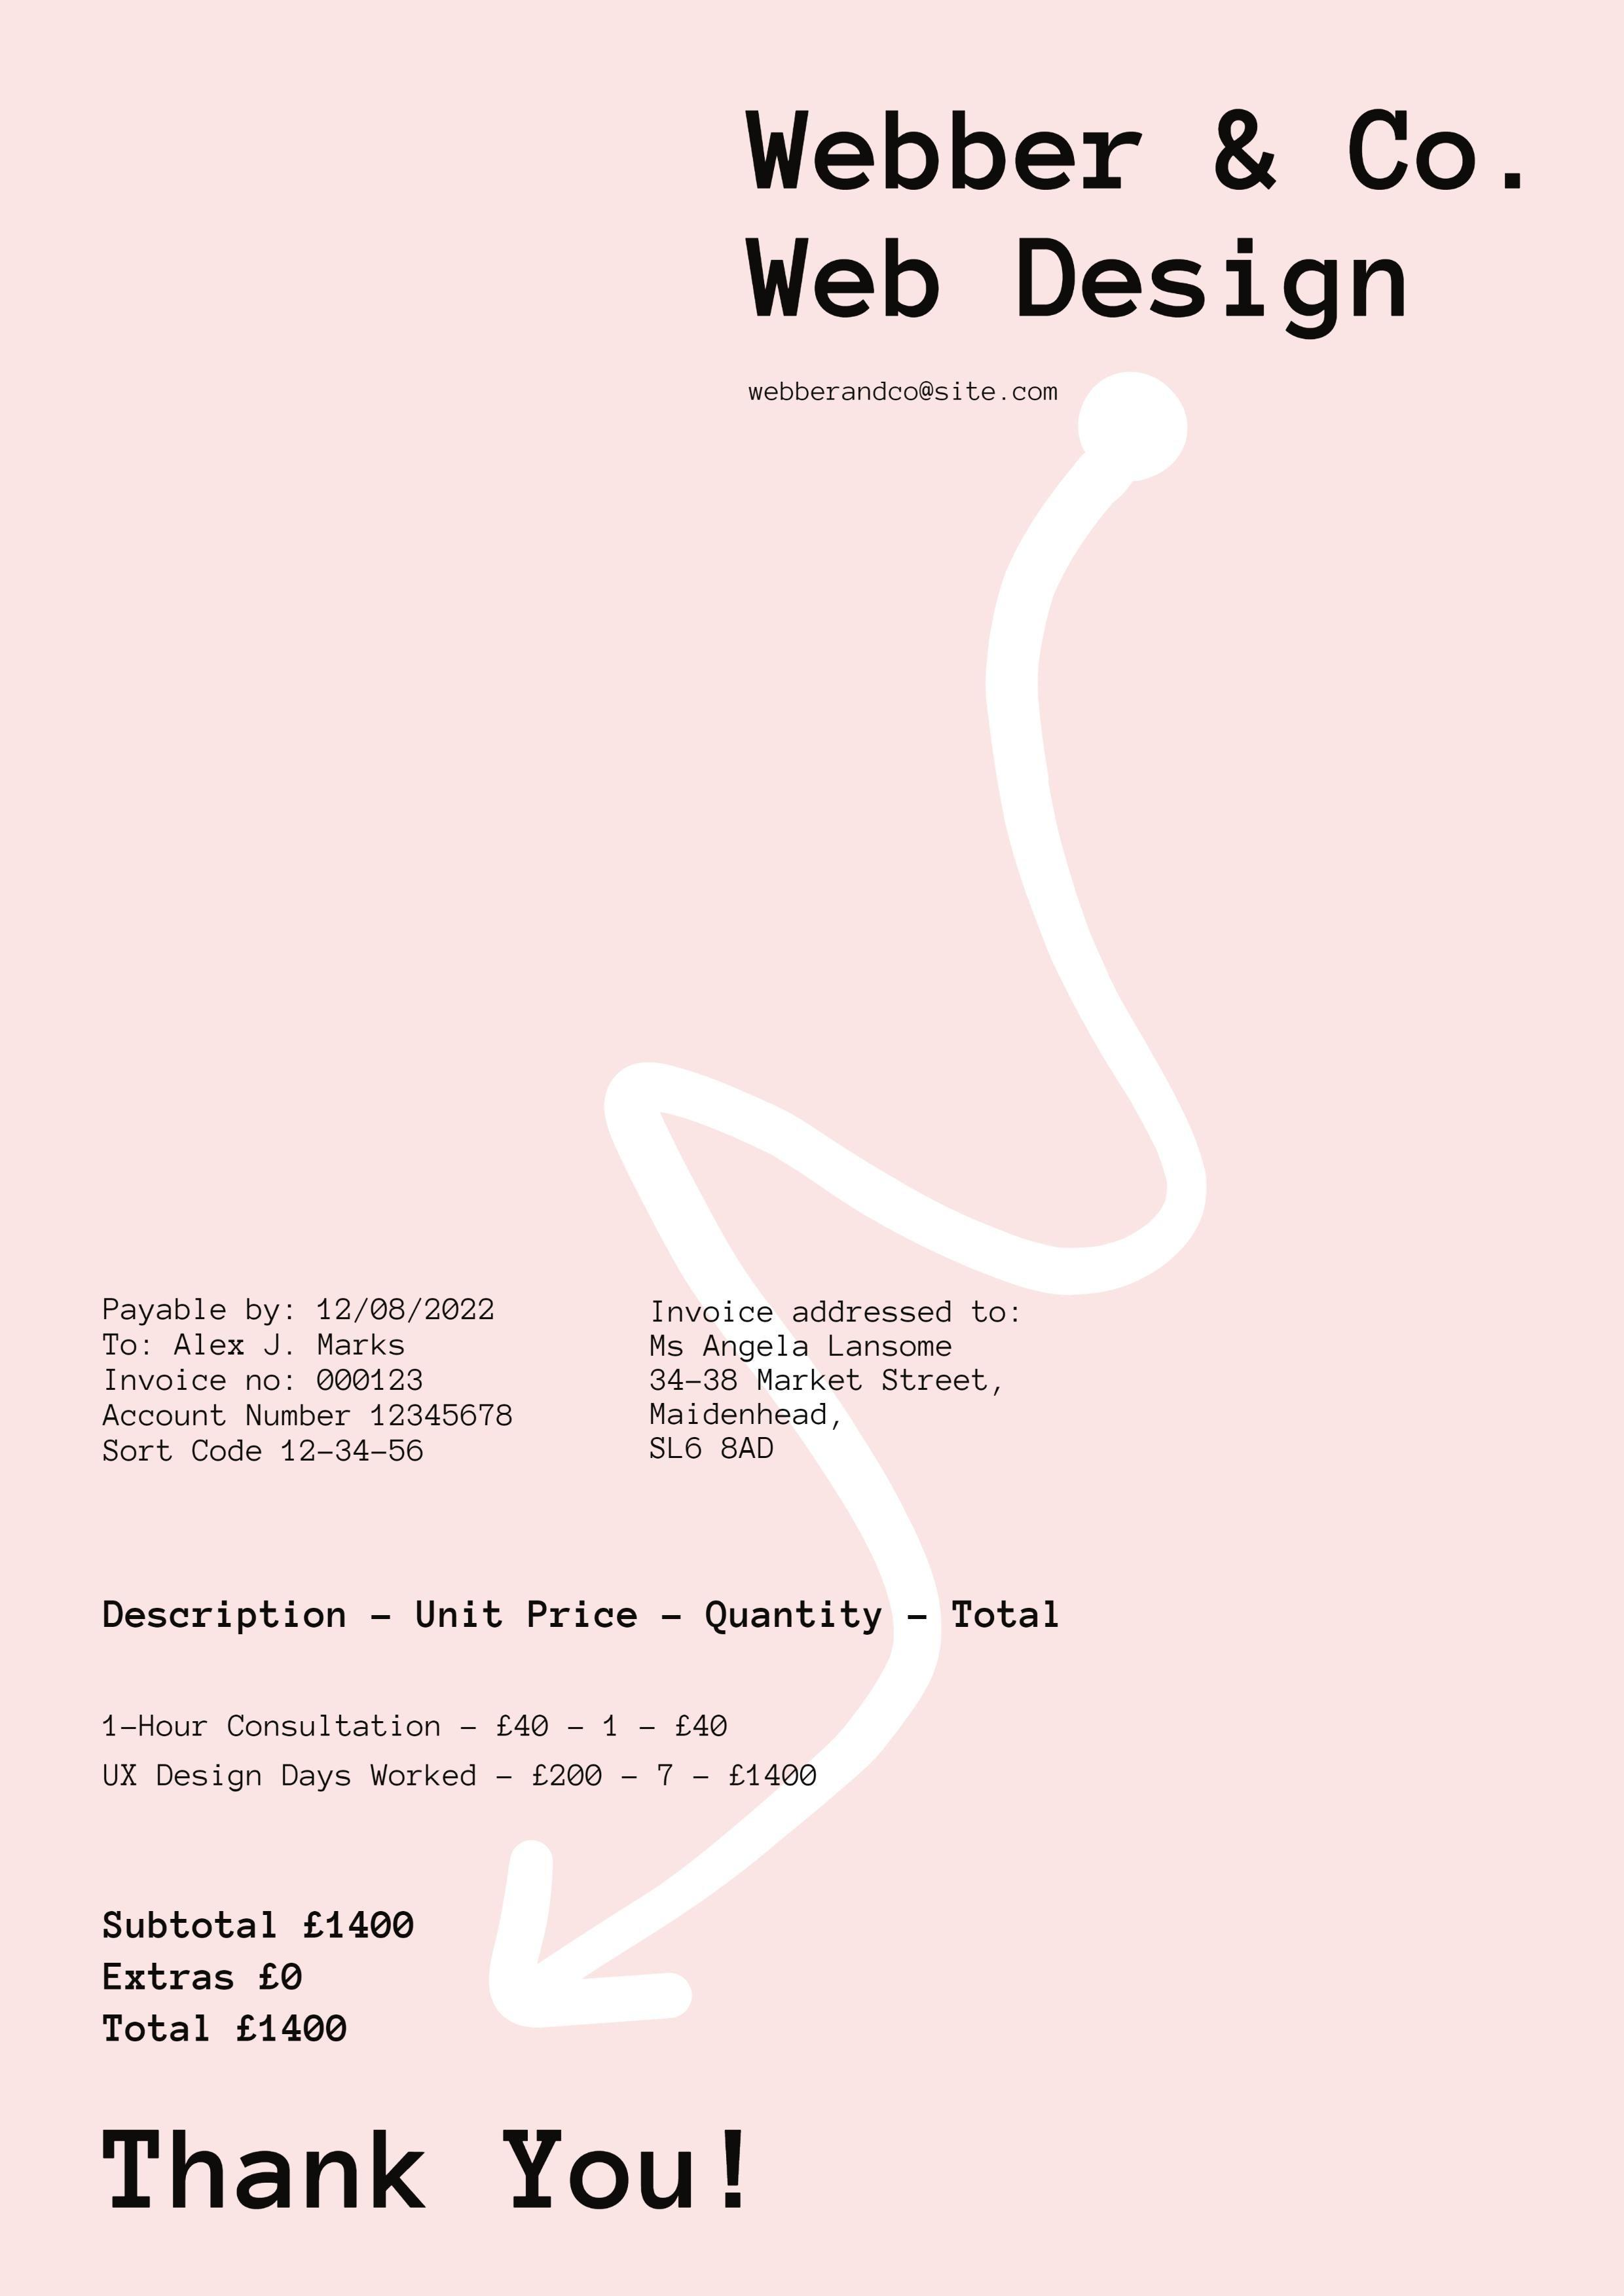ROI: (731, 97, 1527, 420), (81, 1576, 1077, 1802), (95, 1284, 529, 1479), (86, 1890, 417, 2069), (98, 1397, 506, 1465), (102, 1358, 436, 1398)
